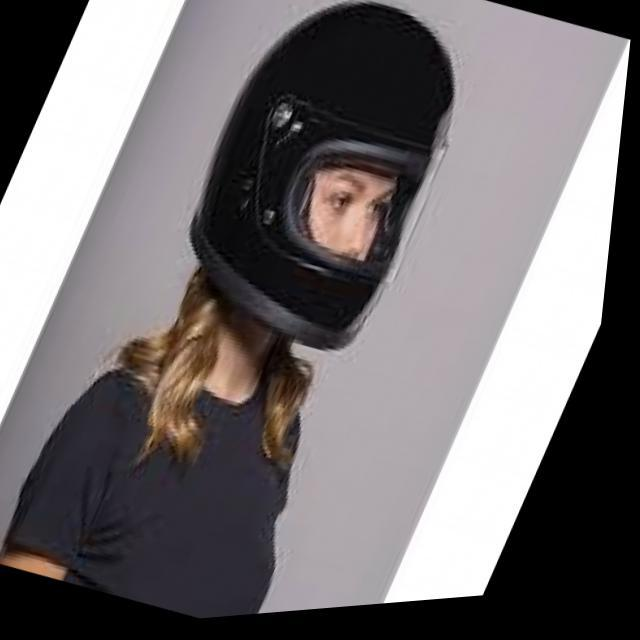Helmet: (180, 0, 462, 358)
